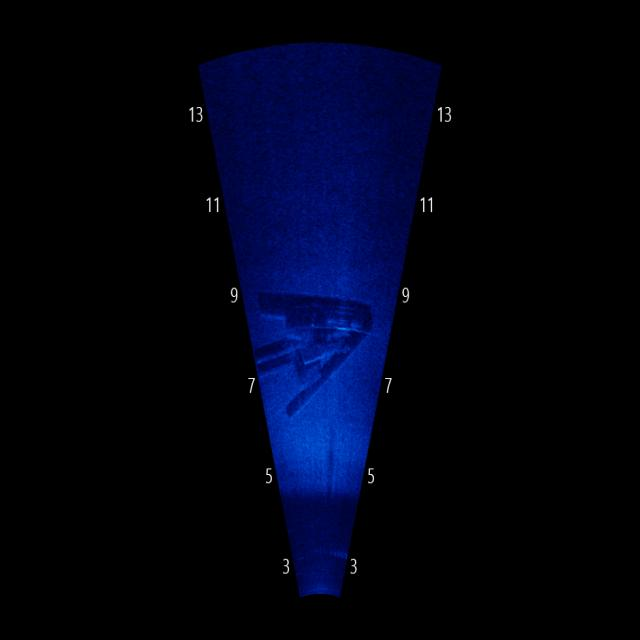triangle: (259, 283, 372, 425)
